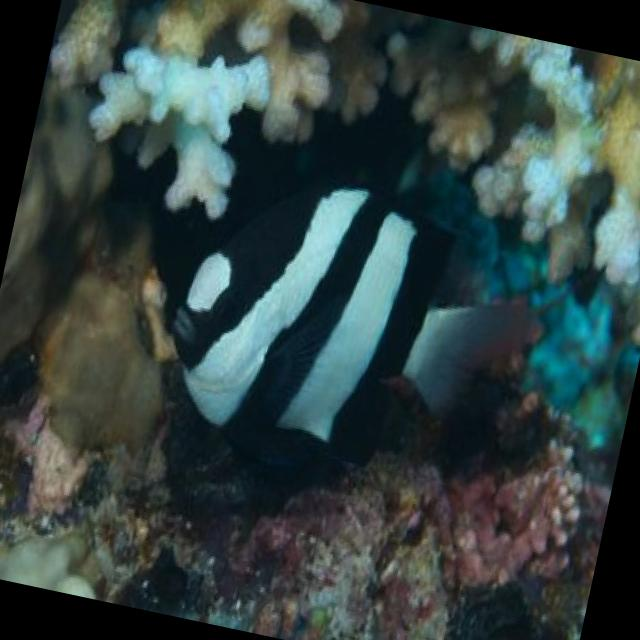Three_striped DasmselFish: (109, 143, 548, 514)
